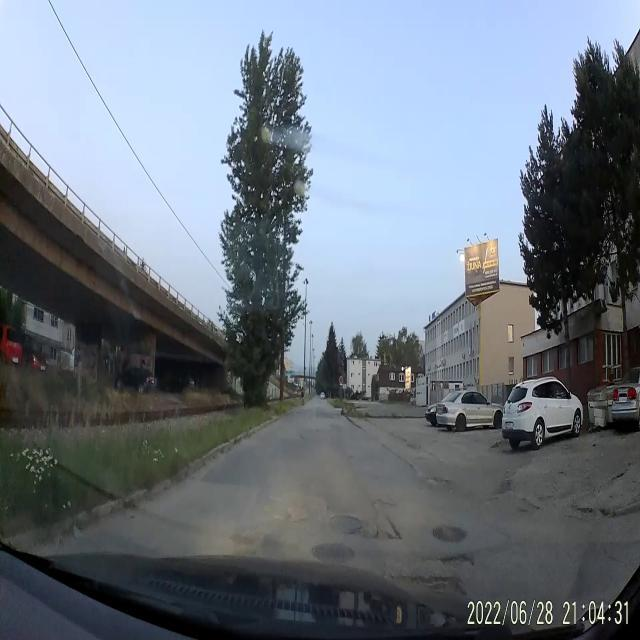Manhole: (313, 540, 353, 564), (328, 510, 362, 537), (428, 522, 468, 544)
Pothole: (434, 550, 478, 572), (365, 523, 403, 548)
